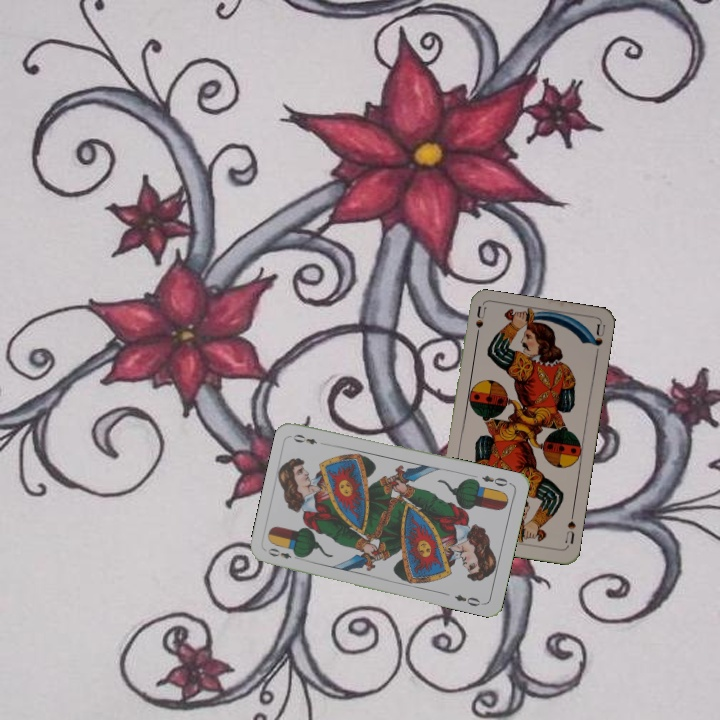EO: (264, 544, 303, 563), (478, 471, 514, 489)
SU: (471, 303, 489, 344), (561, 508, 578, 546)
